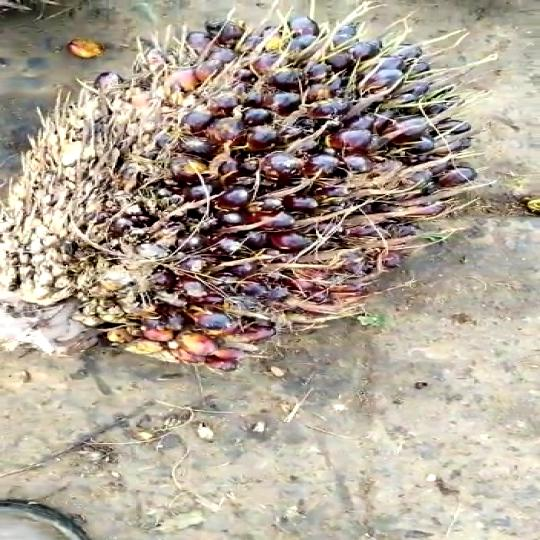mentah: (13, 11, 479, 369)
